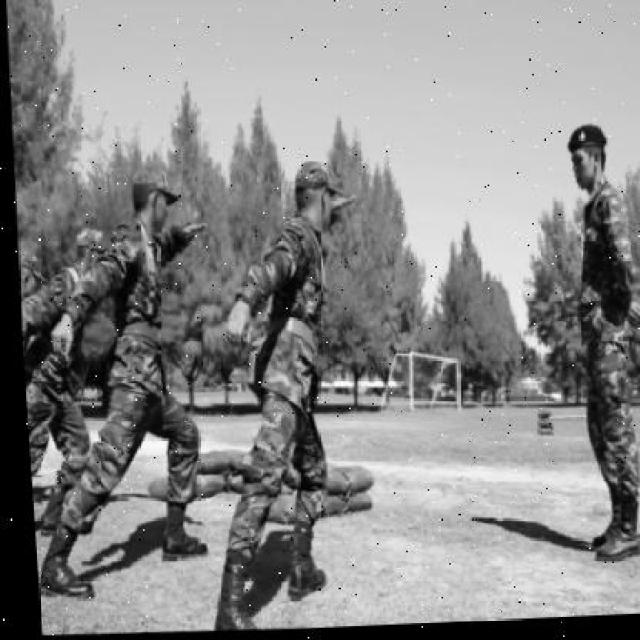MIL_Pax: (210, 127, 361, 633), (76, 150, 212, 633), (531, 95, 640, 580), (12, 218, 119, 524), (12, 234, 54, 368)
